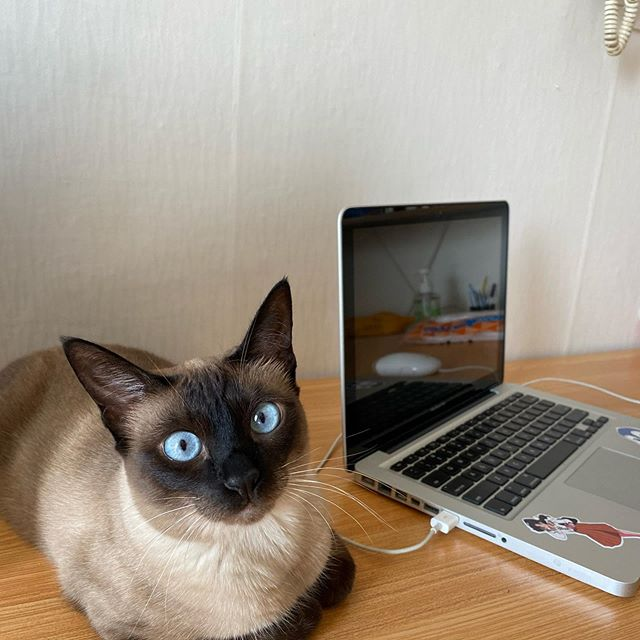cat: (55, 273, 327, 541)
